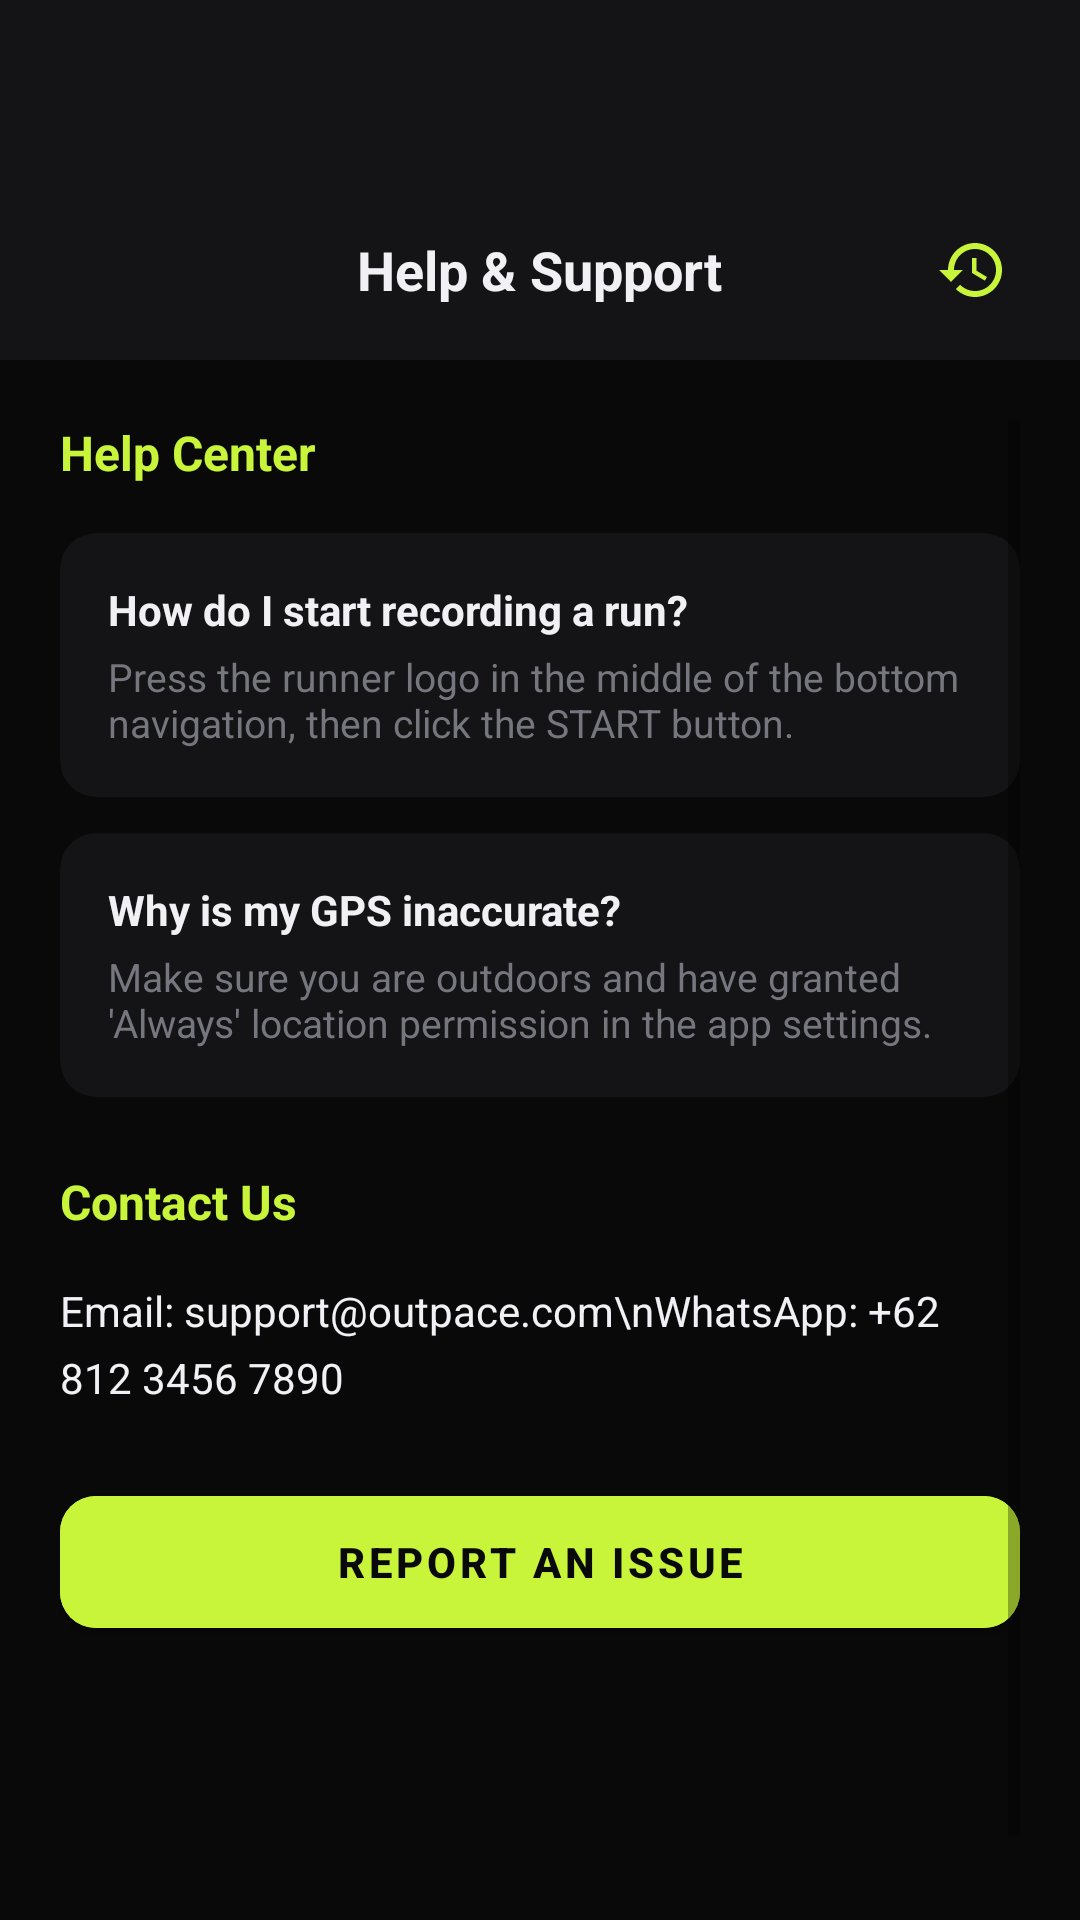

Screen size 1080×1920. Icon name, then its box in pixels as (x1, y1, x2, y2):
history: (939, 243, 1002, 297)
